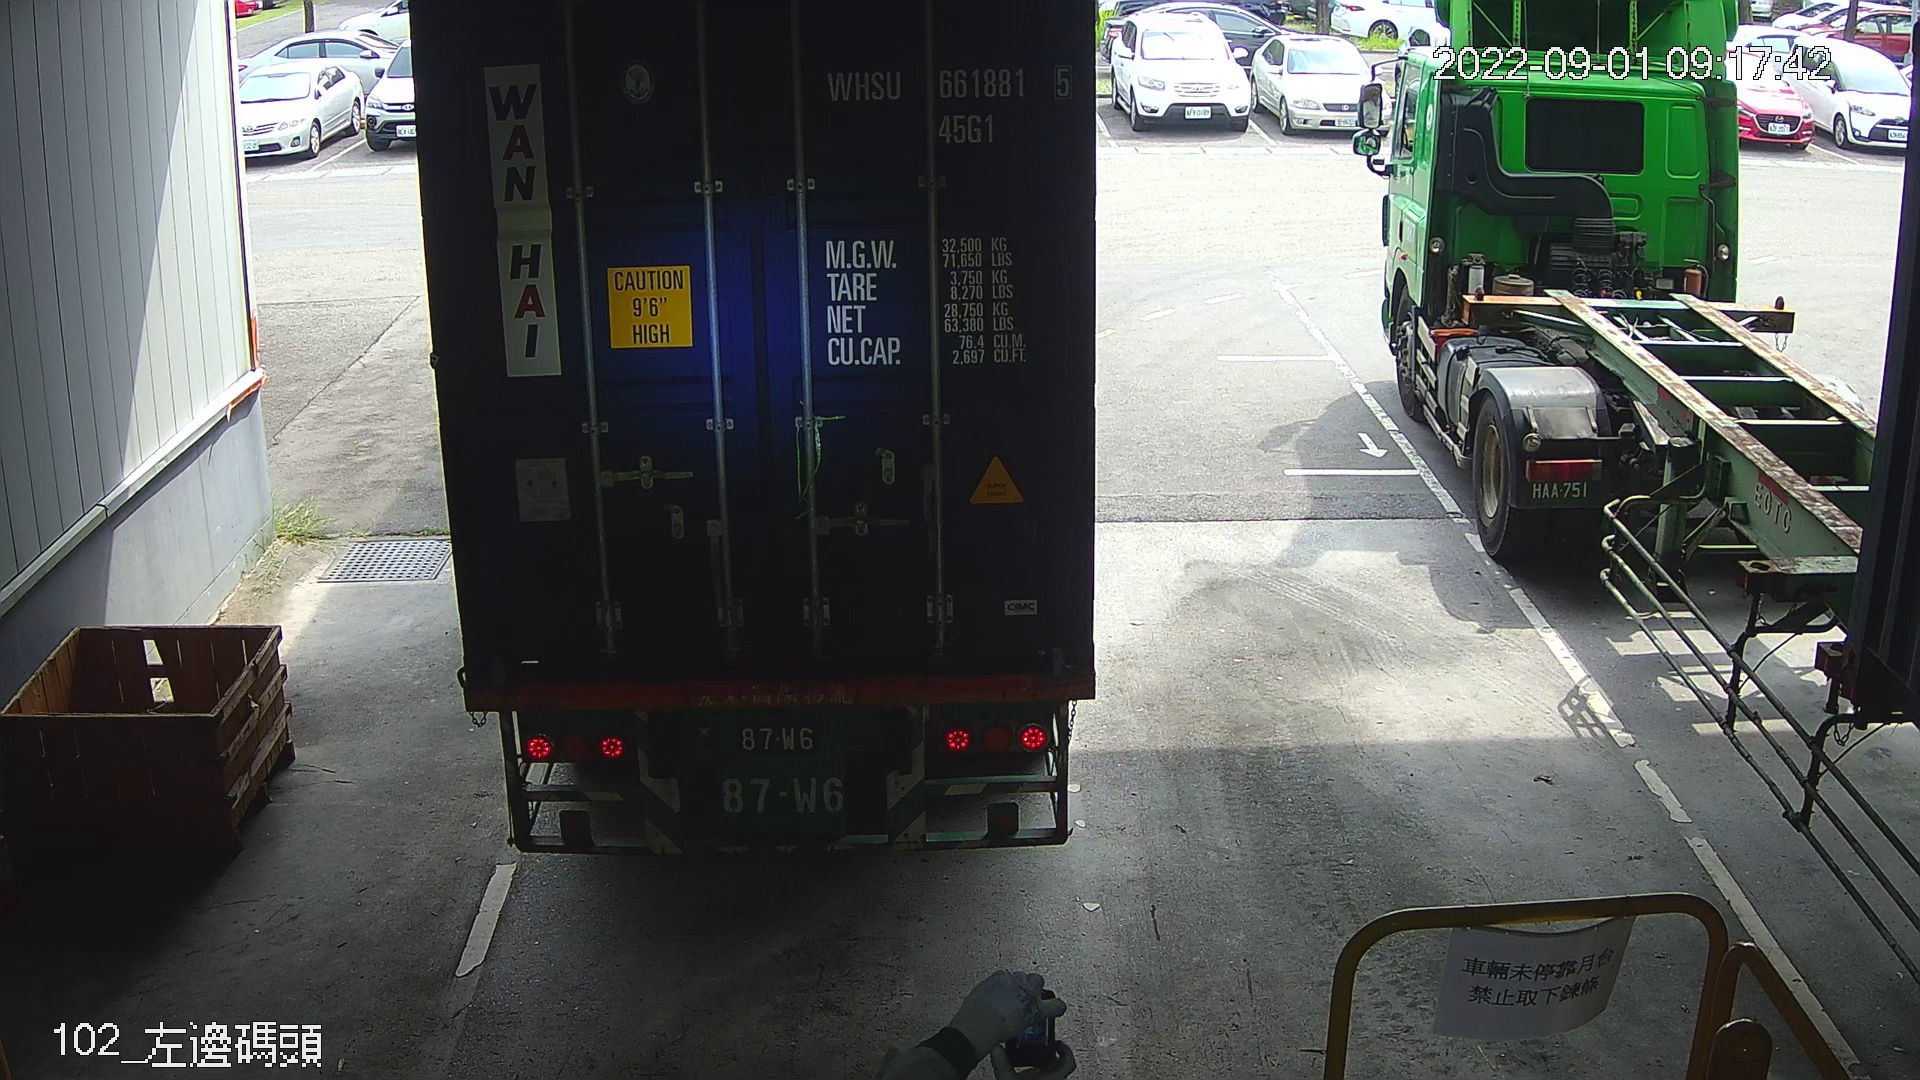container: (814, 58, 1085, 154)
